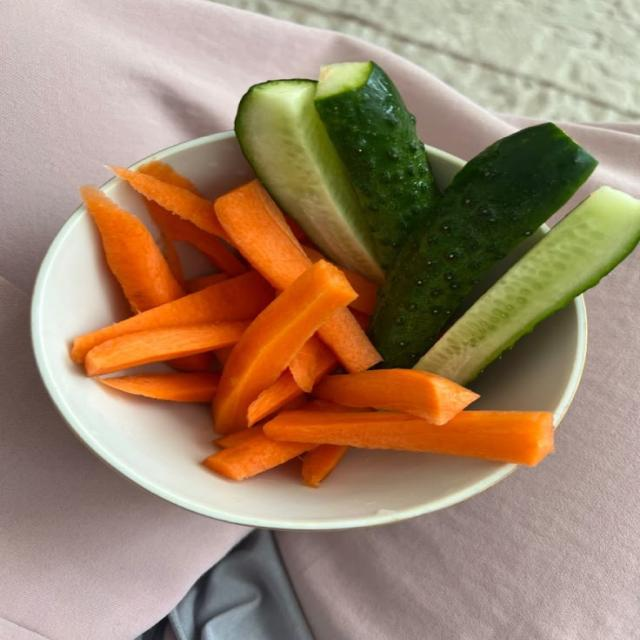carrot: (213, 261, 355, 434), (71, 272, 273, 362), (264, 411, 553, 465), (80, 186, 184, 312), (81, 188, 186, 311), (216, 181, 312, 290), (314, 369, 479, 424), (85, 321, 249, 376), (108, 166, 226, 238), (147, 199, 246, 275), (147, 201, 247, 275), (204, 430, 315, 480), (99, 372, 219, 401), (247, 369, 303, 426), (247, 370, 303, 425), (289, 336, 337, 392), (137, 160, 201, 195), (302, 445, 348, 487), (340, 267, 378, 315), (161, 232, 187, 290), (213, 425, 261, 448), (214, 425, 261, 448), (300, 398, 373, 412), (167, 352, 214, 372), (186, 273, 228, 292), (285, 216, 310, 243), (351, 309, 370, 331), (281, 395, 307, 411), (215, 346, 234, 366)
cucumber sliced: (370, 123, 596, 367), (418, 187, 639, 385), (235, 79, 383, 282), (315, 62, 437, 273)
